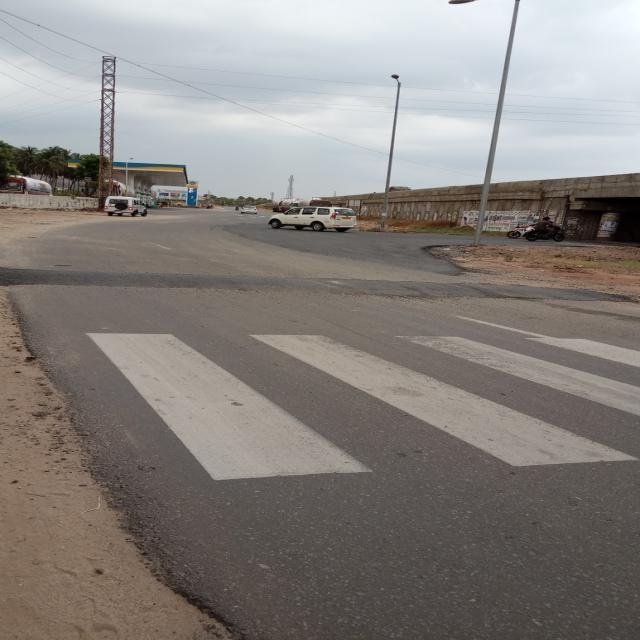speedbreaker: (0, 258, 640, 308)
